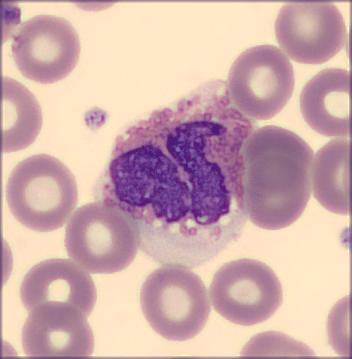EO: (95, 80, 252, 270), (3, 152, 79, 233), (238, 151, 313, 231), (18, 257, 97, 329), (65, 201, 140, 276), (139, 264, 210, 341), (224, 43, 295, 120), (242, 123, 314, 195), (208, 257, 283, 326), (11, 13, 83, 83), (273, 1, 346, 64), (19, 299, 95, 359), (297, 66, 352, 141), (311, 137, 352, 216), (1, 78, 41, 154), (241, 330, 316, 359)
PLT: (82, 104, 108, 132), (5, 5, 23, 27)
